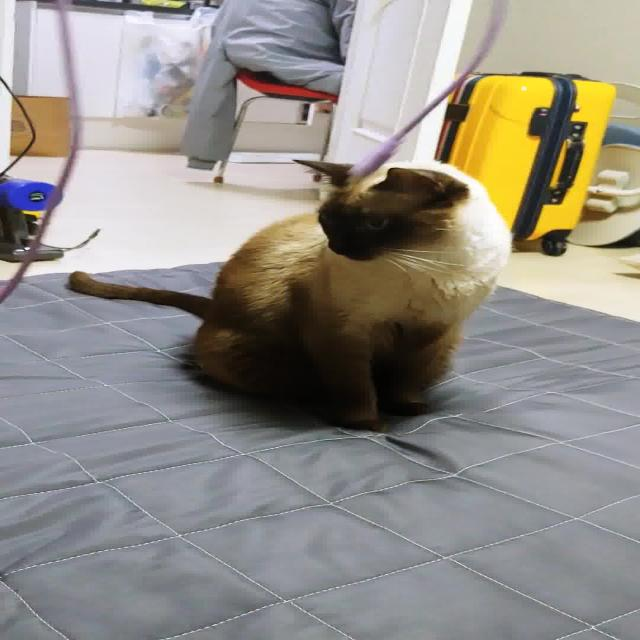cat: (49, 152, 523, 442)
